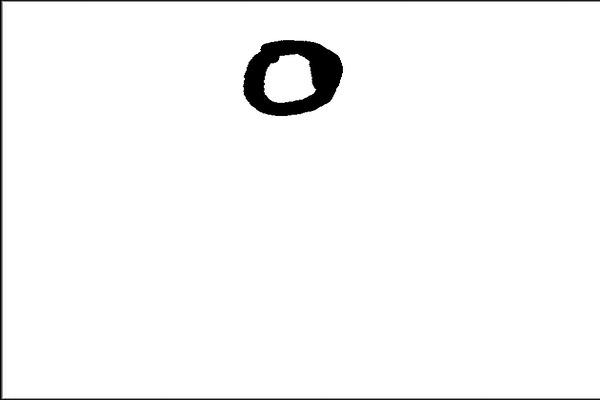O: (230, 29, 354, 123)
